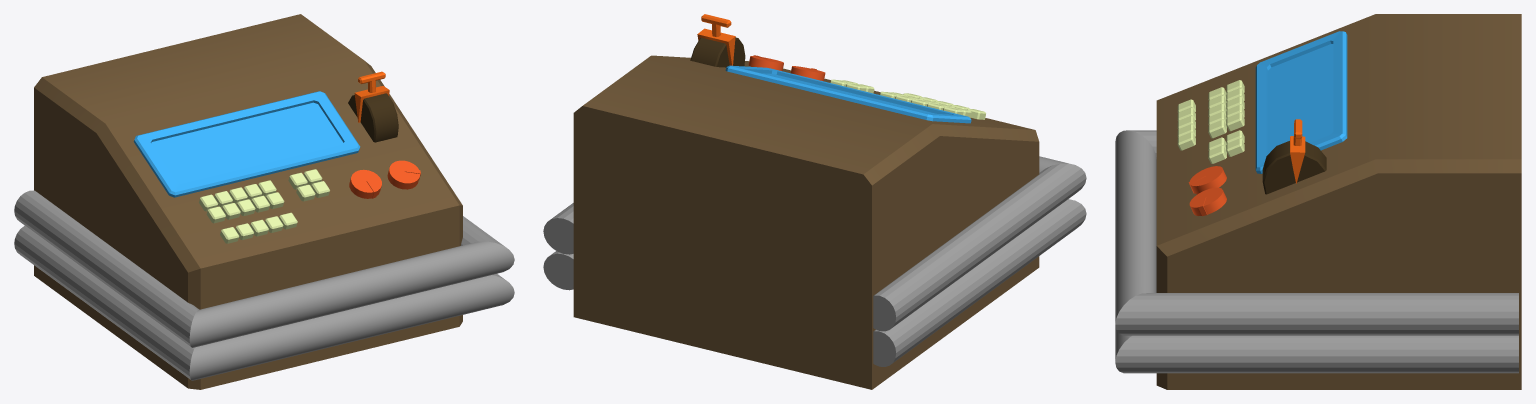
Rendered from CO_console_temp.fbx.
3 views of the same model, side by side, from view 1: azimuth 30°, elevation 25°; view 2: azimuth 150°, elevation 25°; view 3: azimuth 270°, elevation 25° (orthographic). The views are drawn at different scales.
Parts seen in each view (by area): view 1: console; view 2: console; view 3: console.
Part boxes in pixels (bbox=[...]): console: bbox=[14, 14, 514, 389]; console: bbox=[543, 14, 1086, 389]; console: bbox=[1115, 14, 1521, 389].
Bounding box in the file's own units: 1.18 × 0.741 × 1.11.
